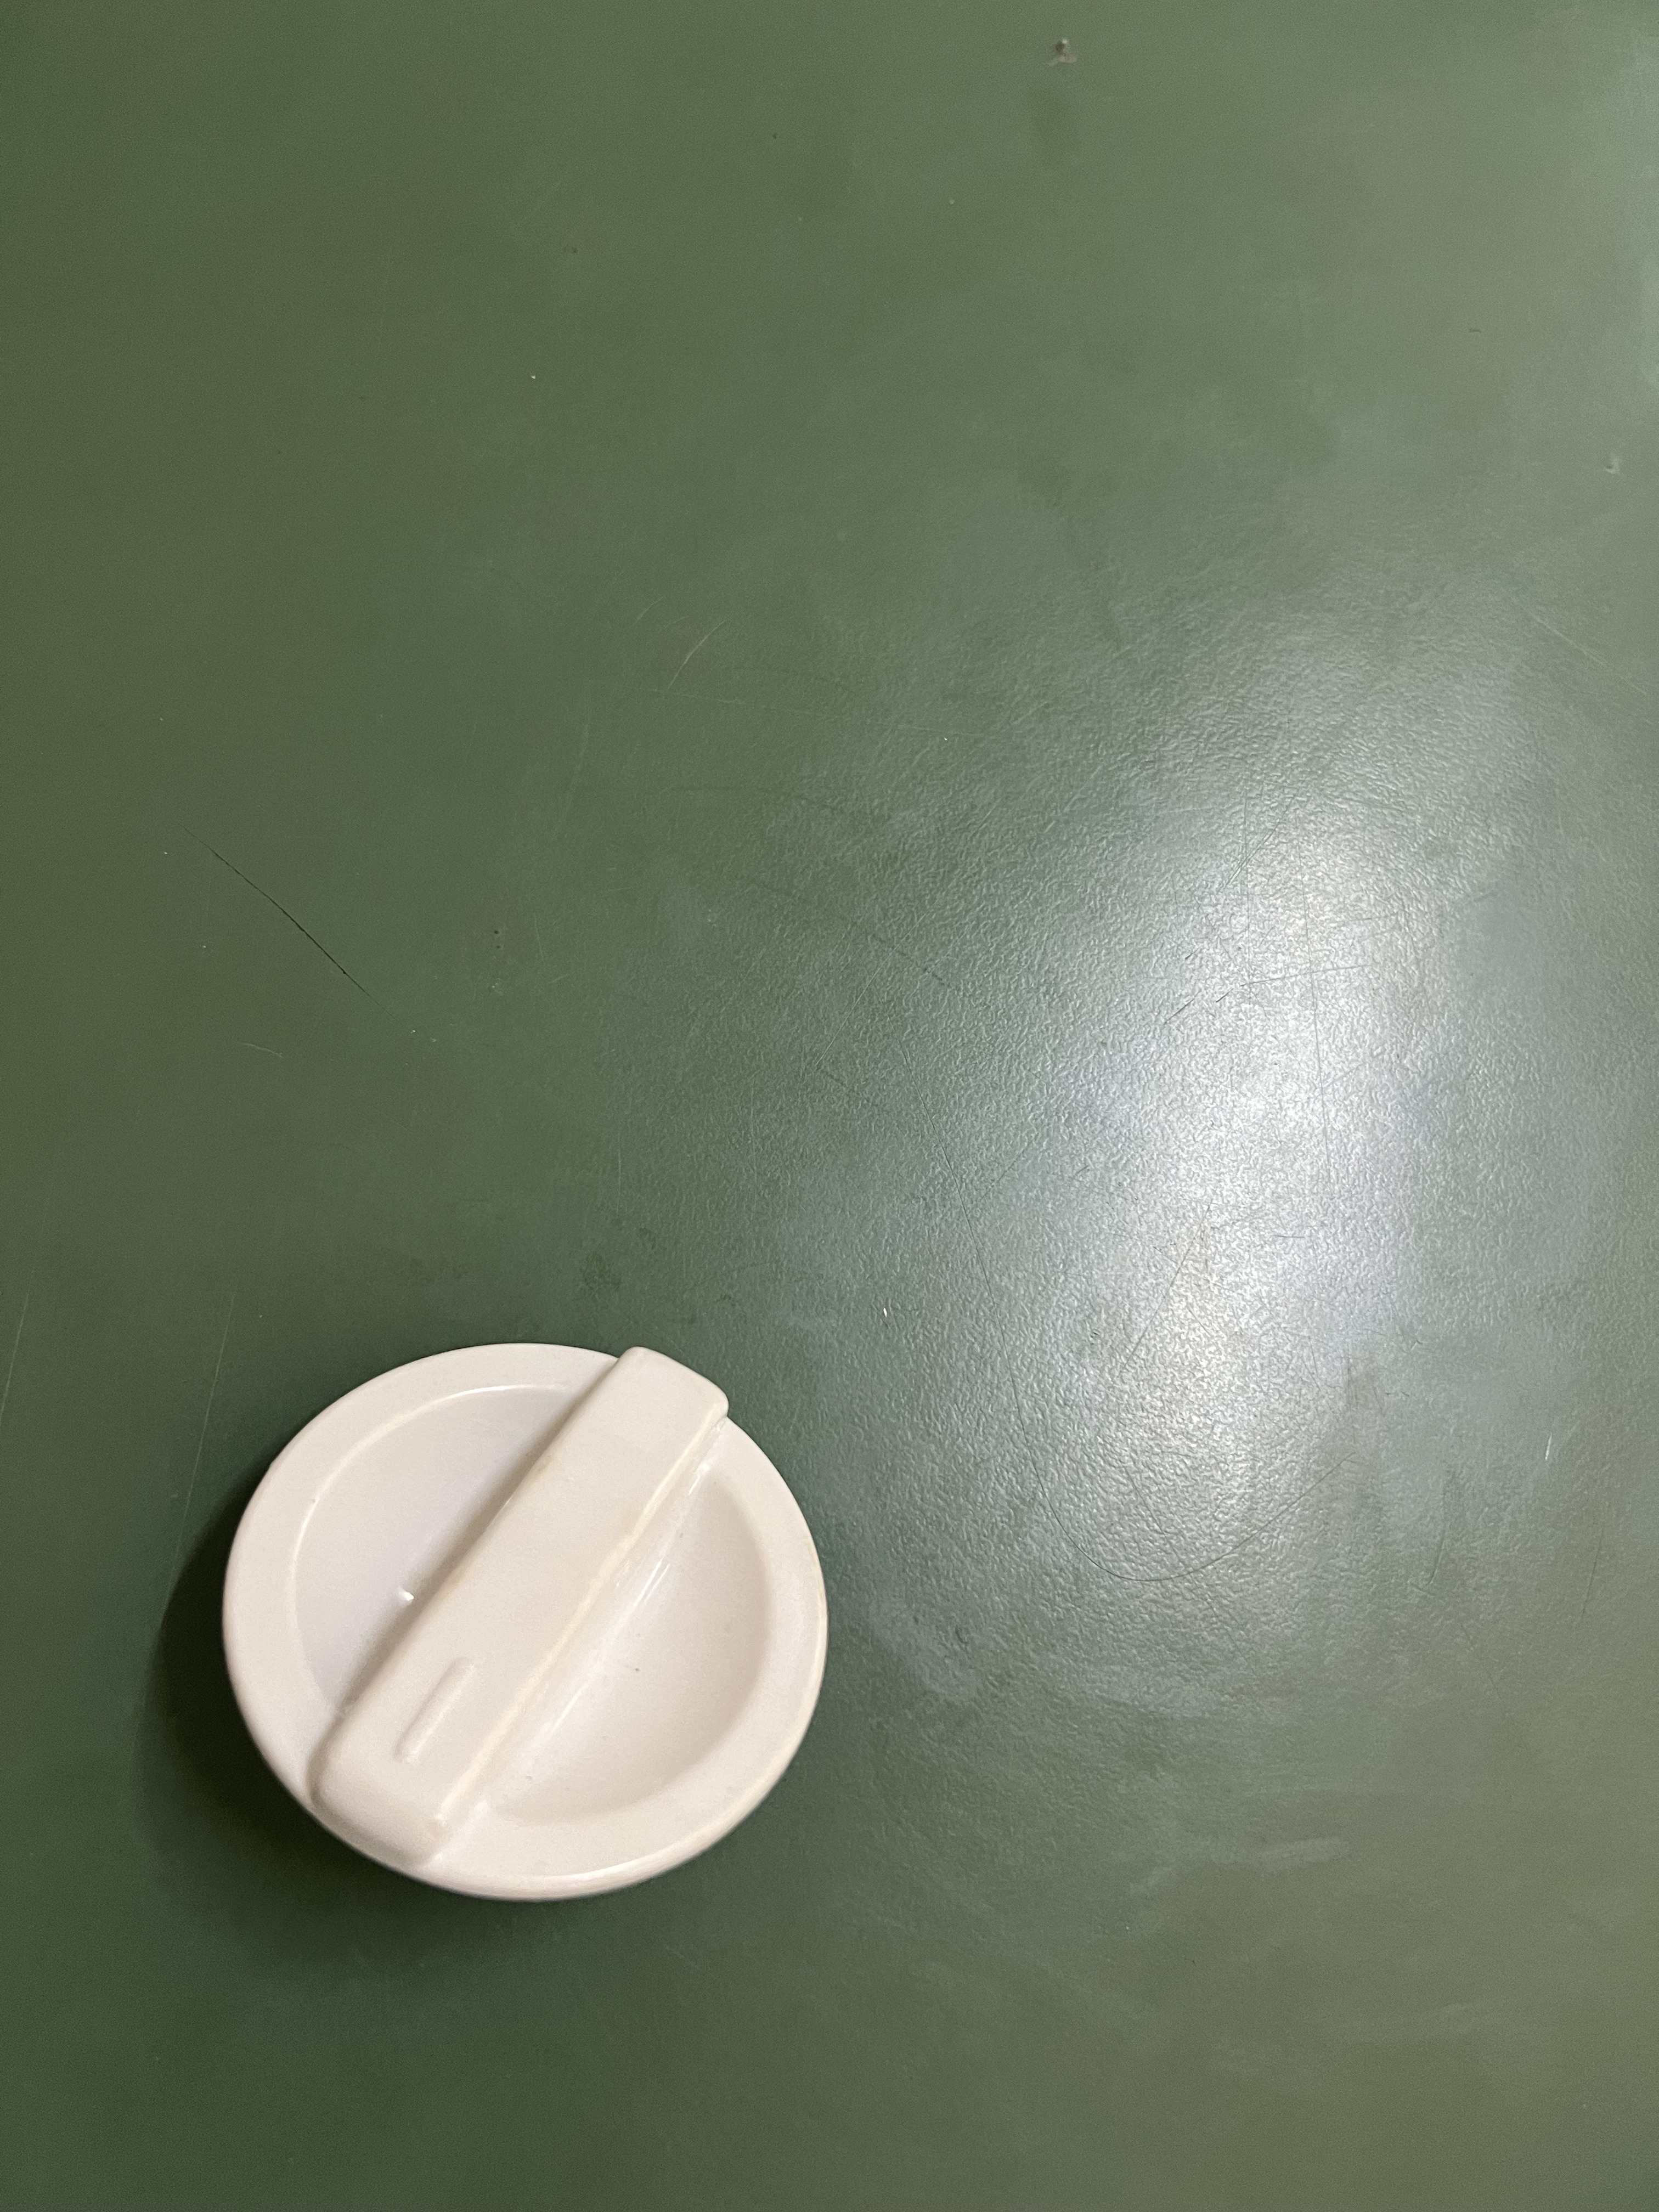regulator: (192, 1282, 842, 1928)
